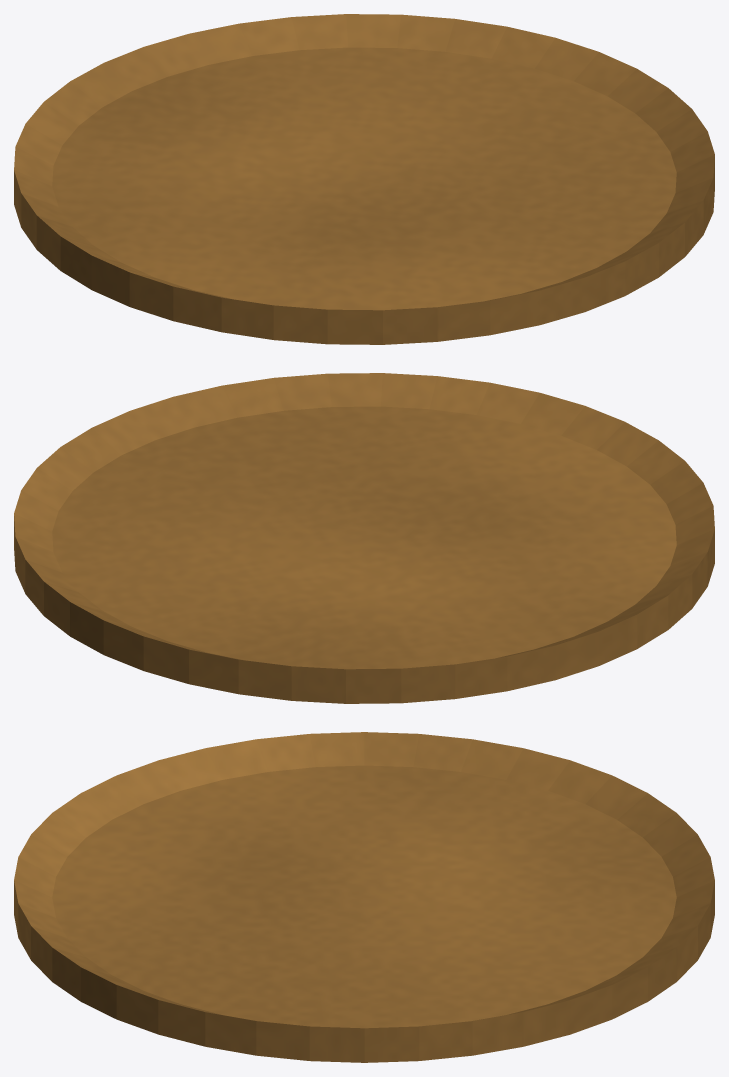
Rendered from z1_plato_bronce.obj.
The picture shows the model from 3 angles, top to bottom: view 1: azimuth 30°, elevation 25°; view 2: azimuth 150°, elevation 25°; view 3: azimuth 270°, elevation 25°; orthographic projection.
Parts seen in each view (by area): view 1: Cylinder; view 2: Cylinder; view 3: Cylinder.
Part boxes in pixels (left/top/right/bottom): Cylinder: left=14, top=14, right=714, bottom=344; Cylinder: left=14, top=373, right=714, bottom=703; Cylinder: left=14, top=732, right=714, bottom=1062.
Size of the model in its own units: 0.22 by 0.012 by 0.22.
Materials: 1 (1 with a texture image).
